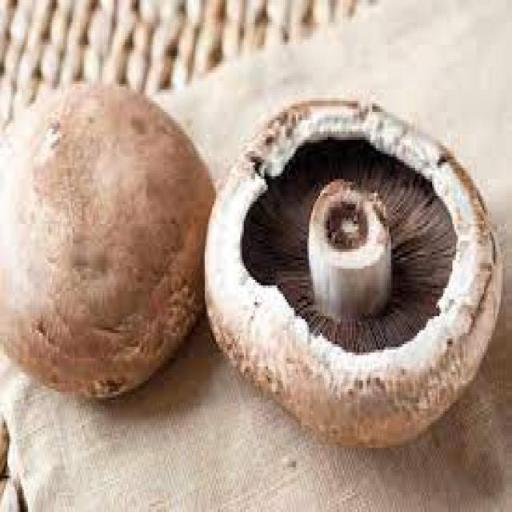Button Mushroom: (200, 96, 512, 472), (0, 85, 225, 407)
